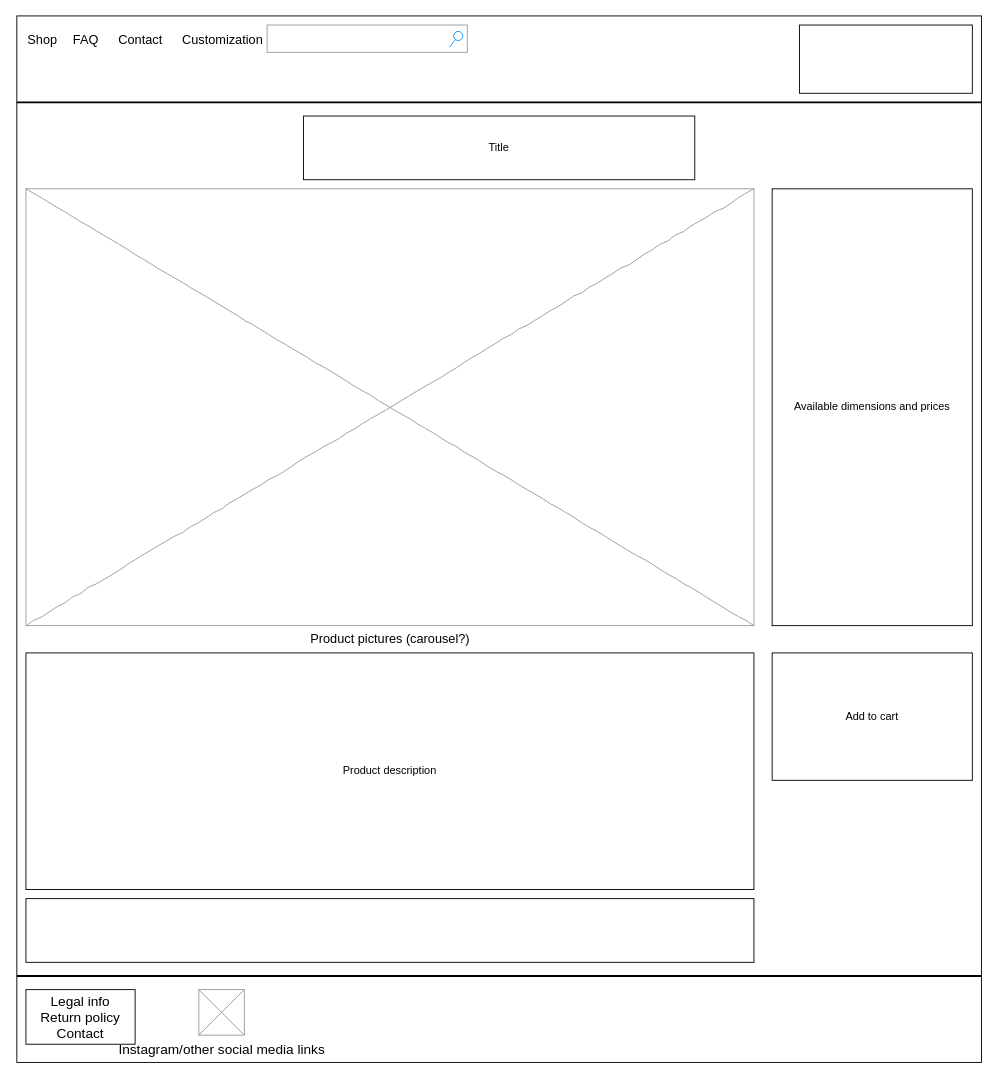
Some shapes in this 997 by 1078 pixel diagram are drawn without their labels. Here are the shapes that lost their labels. From the top down, the centre of each, then its label:
point 366,38: Search
point 885,58: Logo/Home Button
point 389,930: Best practices on how to sticker it on something
